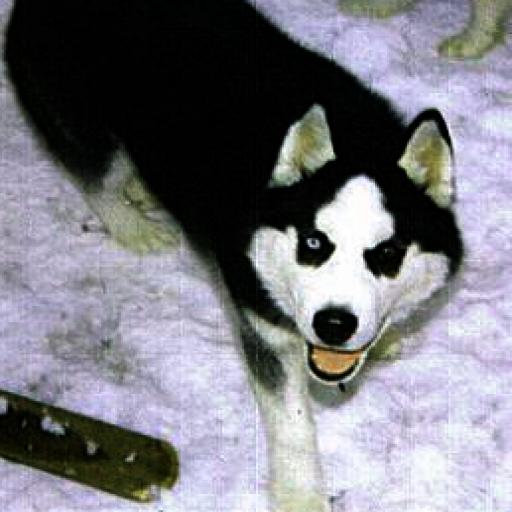dog_face: (261, 109, 457, 378)
